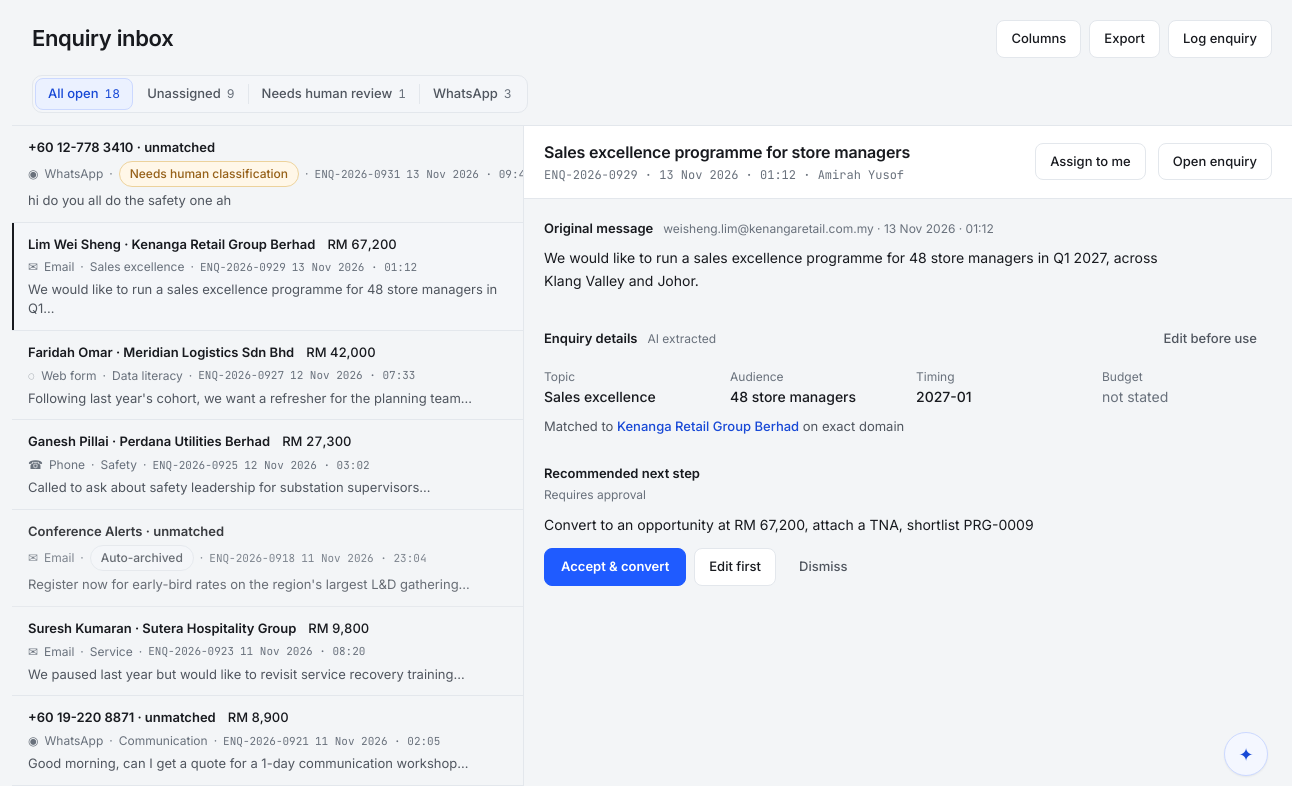
Test: M03-S01 · enquiry inbox › narrows the queue when a saved view is chosen
Check: the heading "Enquiry inbox" is shown, box [32,22,173,55]
Click the tab "Needs human review 1".
click(334, 94)  # box [249,78,419,110]
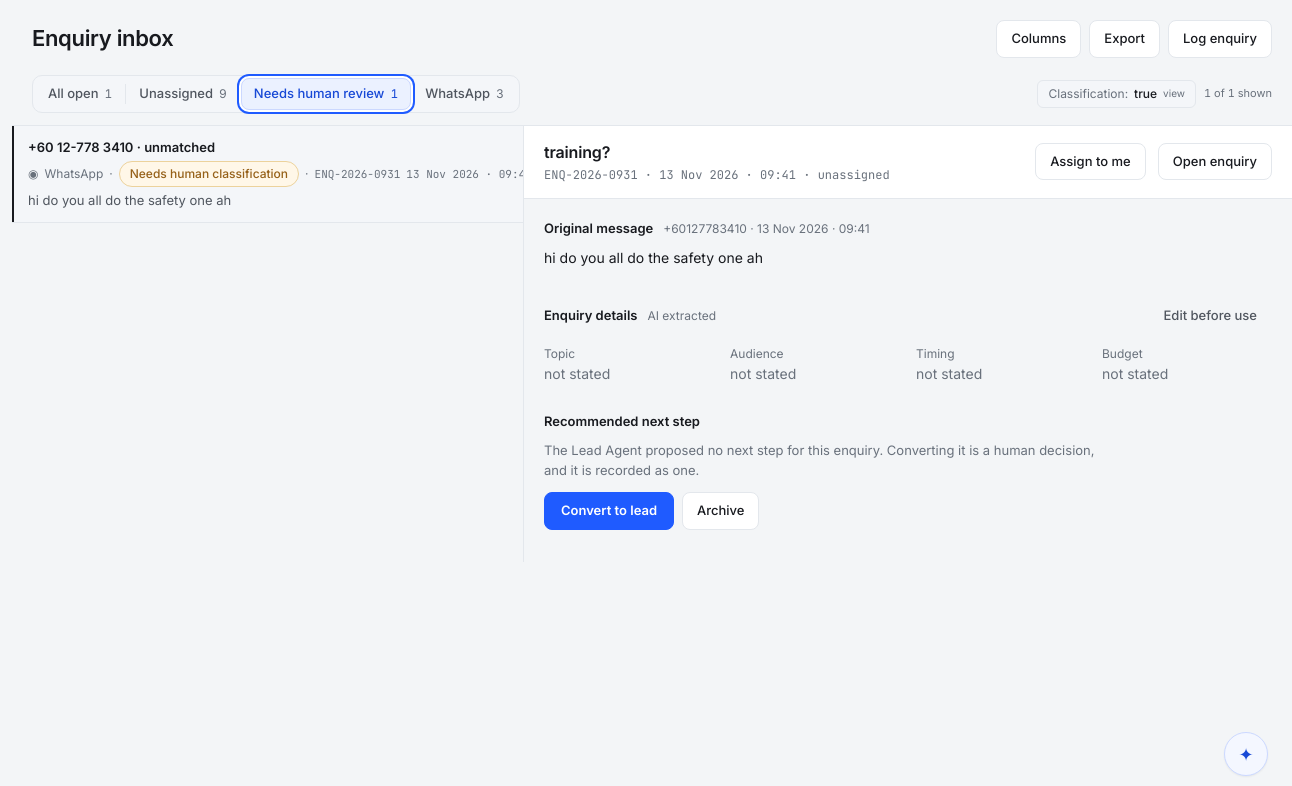
Check: the text "Needs human classification" is shown, box [119,161,299,187]
Check: the button "Auto-archived" is gone
